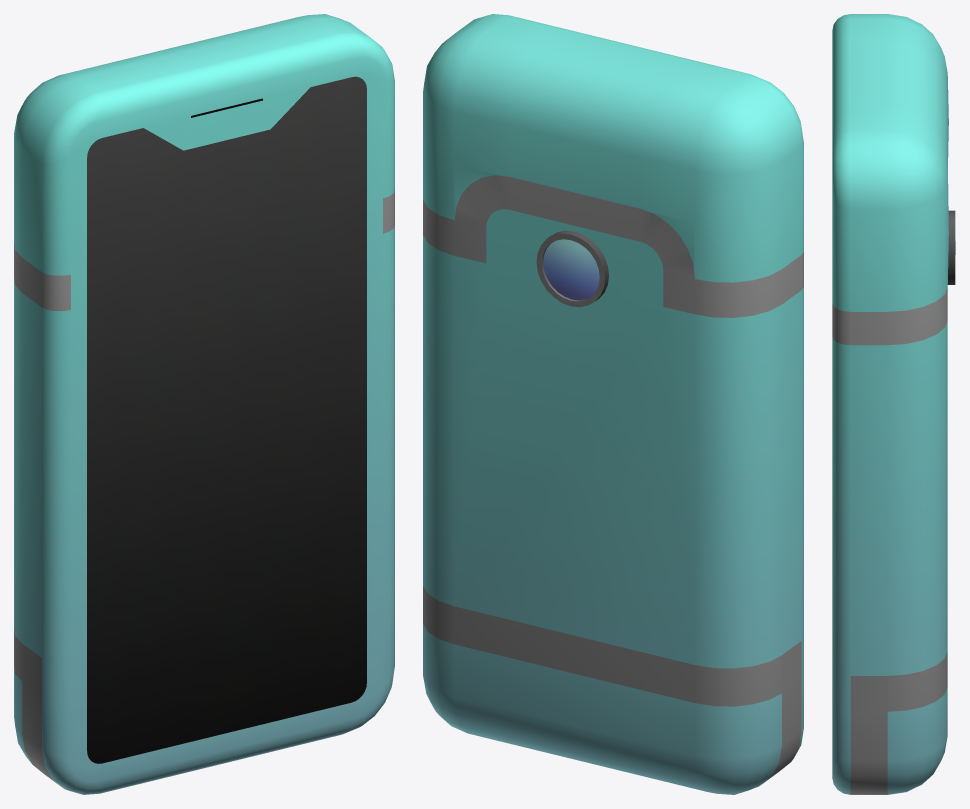
The model's file is smartphone.gltf.
The picture shows the model from 3 angles, left to right: view 1: azimuth 30°, elevation 25°; view 2: azimuth 150°, elevation 25°; view 3: azimuth 270°, elevation 25°; orthographic projection. The views are drawn at different scales.
Visible parts, largest first — view 1: smartphone; view 2: smartphone; view 3: smartphone.
Part boxes in pixels (<box>): smartphone: <box>14,14,394,794</box>; smartphone: <box>423,14,803,794</box>; smartphone: <box>832,14,955,794</box>.
Size of the model in its own units: 0.092 by 0.1754 by 0.0297.
1 material, 1 textured.
